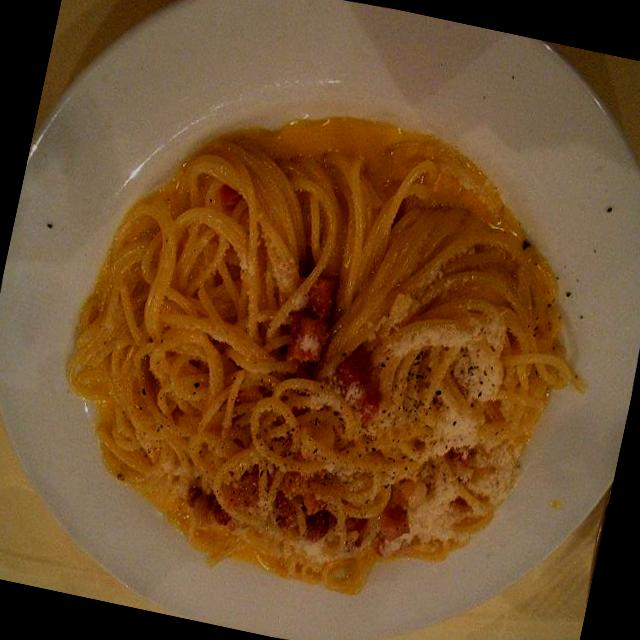Pasta: (31, 105, 600, 622)
